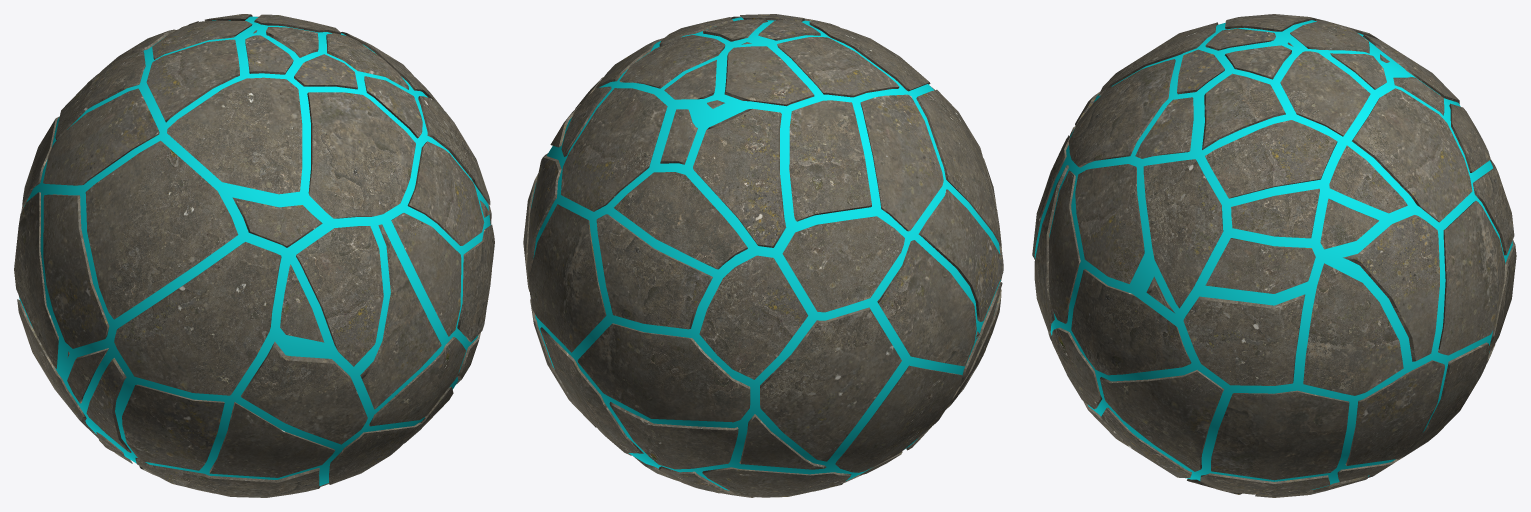
The model's file is Ball.fbx.
3 renders of one model, left to right at view 1: azimuth 30°, elevation 25°; view 2: azimuth 150°, elevation 25°; view 3: azimuth 270°, elevation 25°, orthographic.
Visible parts, largest first — view 1: 球.003_cell, 球.004; view 2: 球.003_cell, 球.004; view 3: 球.003_cell, 球.004.
Boxes of the visible parts, x1,y1,x2,y2 form: 球.003_cell: (14,14,494,497); 球.004: (19,16,490,485); 球.003_cell: (523,14,1003,497); 球.004: (531,17,1000,490); 球.003_cell: (1032,14,1516,497); 球.004: (1034,20,1512,489).
Size of the model in its own units: 200 by 200 by 200.
